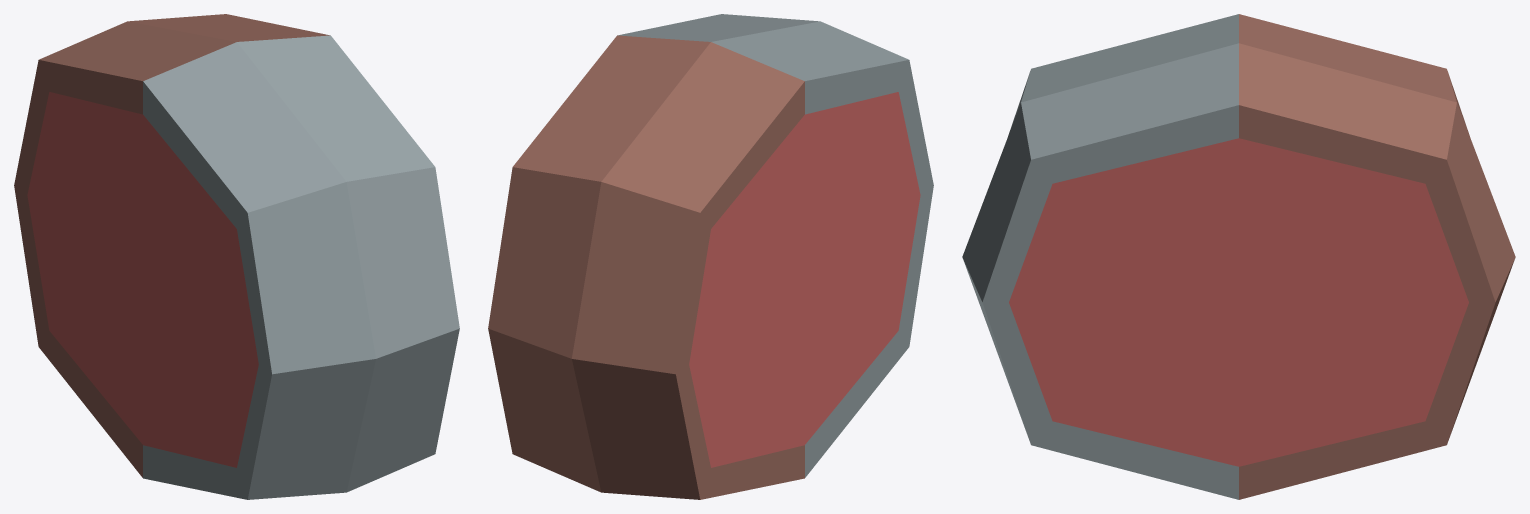
The model's file is MDL_Cut_Fish.fbx.
The picture shows the model from 3 angles, left to right: view 1: azimuth 30°, elevation 25°; view 2: azimuth 150°, elevation 25°; view 3: azimuth 270°, elevation 25°; orthographic projection.
Parts seen in each view (by area): view 1: Sphere; view 2: Sphere; view 3: Sphere.
Part boxes in pixels (<box>): Sphere: <box>14,14,459,499</box>; Sphere: <box>488,14,933,499</box>; Sphere: <box>962,14,1515,499</box>.
Bounding box in the file's own units: 18.43 × 40.33 × 47.33.
